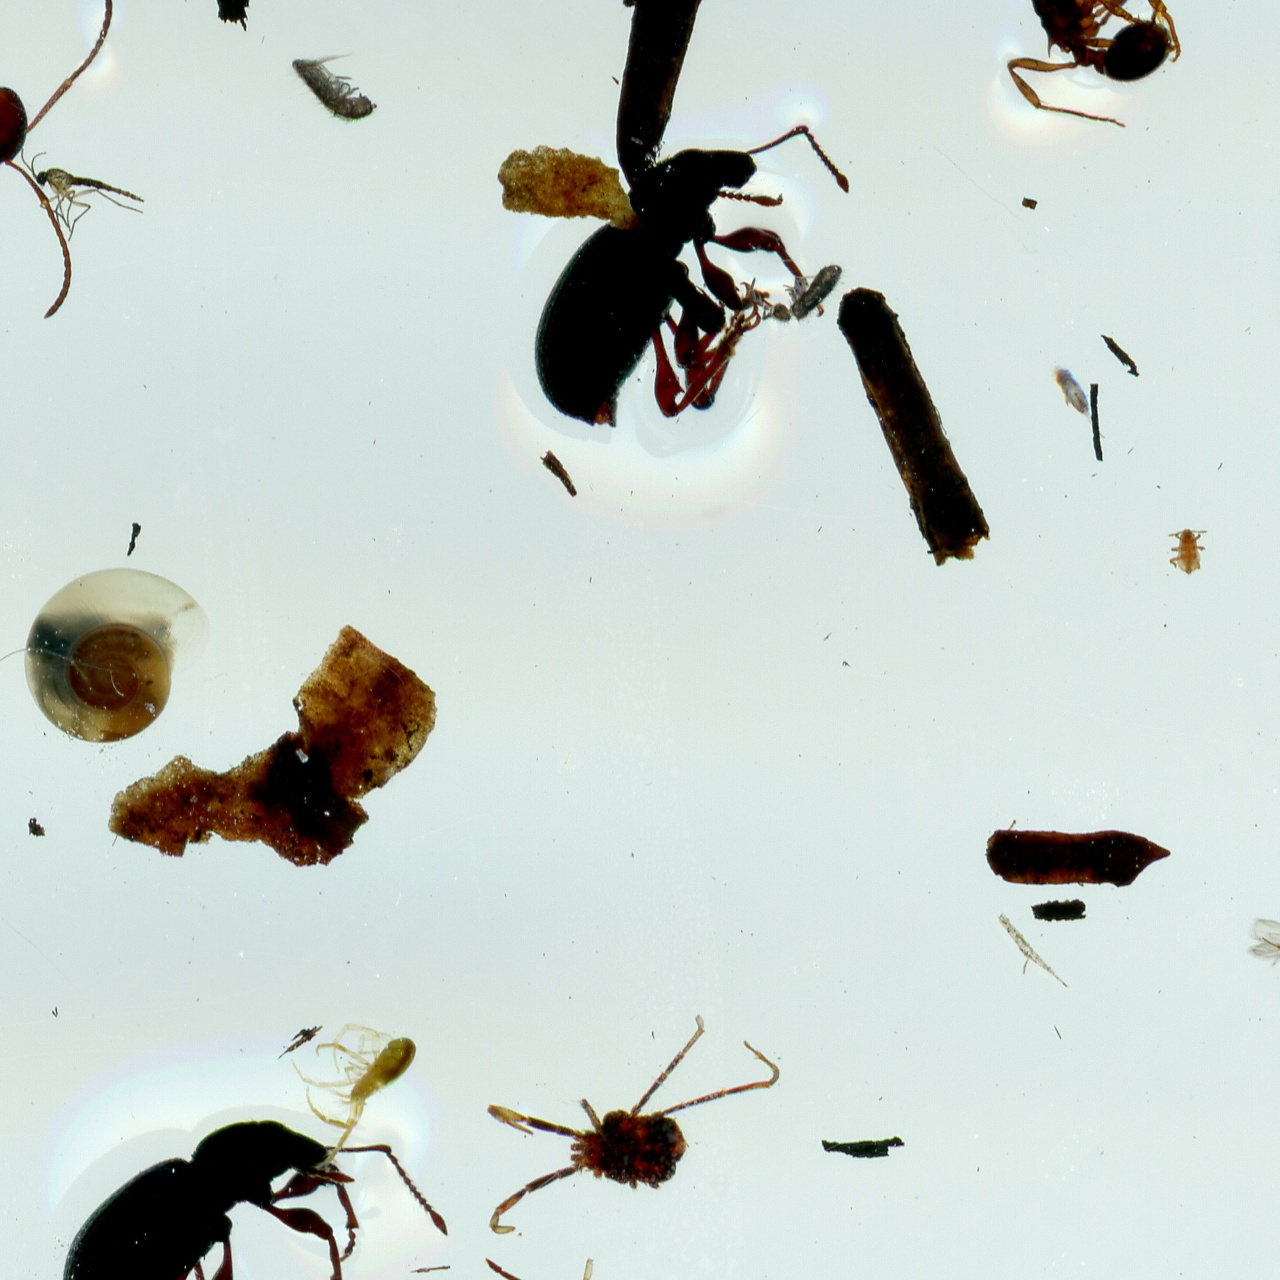arthropod: (485, 49, 914, 508), (13, 1034, 495, 1280), (482, 1007, 787, 1240), (0, 0, 114, 320), (245, 987, 427, 1185), (22, 567, 212, 744), (1003, 0, 1184, 130), (733, 225, 855, 349), (15, 145, 148, 245), (287, 49, 380, 123), (1043, 358, 1119, 445), (1241, 914, 1280, 1024), (1166, 526, 1210, 576)
